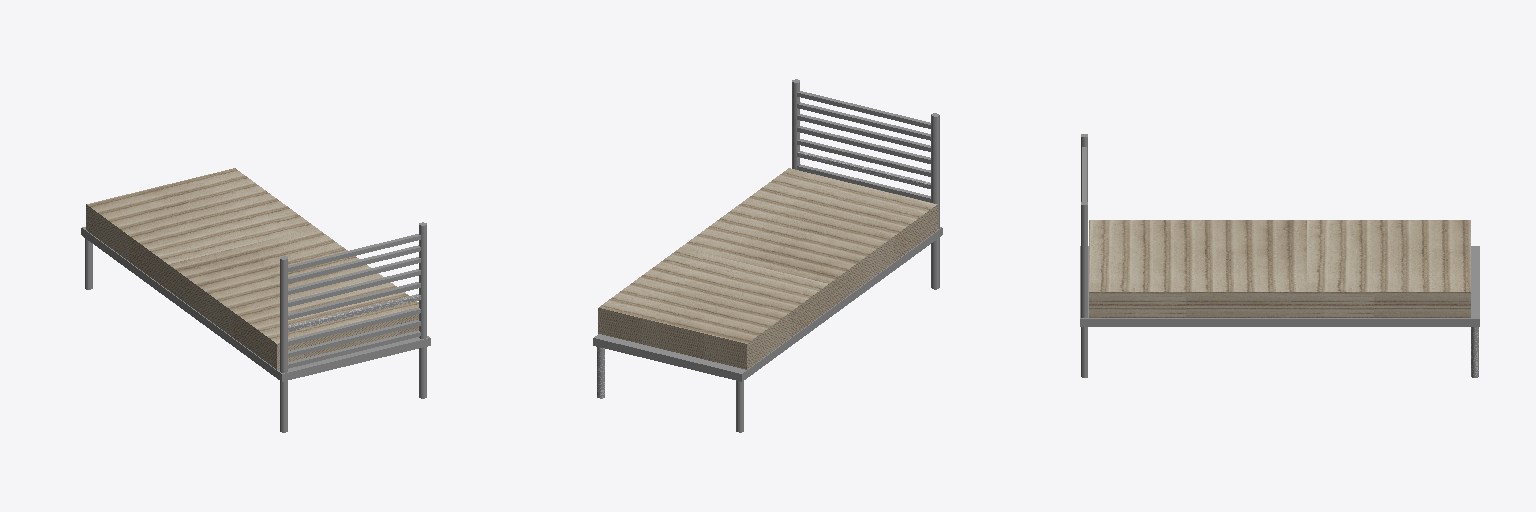
3 views of the same model, side by side, from view 1: azimuth 30°, elevation 25°; view 2: azimuth 150°, elevation 25°; view 3: azimuth 270°, elevation 25° (orthographic).
Visible parts, largest first — view 1: Cube, Cube.001, Cylinder.004_Cylinder.005, Cylinder.003_Cylinder.004, Cube.010_Cube.012, Cube.005_Cube.007, Cube.006_Cube.008, Cube.004_Cube.006, Cube.002_Cube.004, Cube.011_Cube.013, Cube.009_Cube.011, Cube.003_Cube.005 (+1 smaller); view 2: Cube, Cube.001, Cylinder.004_Cylinder.005, Cube.006_Cube.008, Cube.005_Cube.007, Cube.004_Cube.006, Cube.003_Cube.005, Cube.002_Cube.004, Cube.009_Cube.011, Cube.008_Cube.010, Cylinder.003_Cylinder.004; view 3: Cube, Cube.001, Cylinder.003_Cylinder.004.
Part boxes in pixels (left/top/right/bottom): Cube: left=86, top=168, right=418, bottom=369; Cube.001: left=81, top=227, right=430, bottom=381; Cylinder.004_Cylinder.005: left=280, top=256, right=287, bottom=432; Cylinder.003_Cylinder.004: left=419, top=222, right=426, bottom=398; Cube.010_Cube.012: left=288, top=319, right=420, bottom=357; Cube.005_Cube.007: left=288, top=269, right=420, bottom=306; Cube.006_Cube.008: left=288, top=282, right=420, bottom=319; Cube.004_Cube.006: left=288, top=257, right=420, bottom=294; Cube.002_Cube.004: left=288, top=234, right=420, bottom=271; Cube.011_Cube.013: left=288, top=330, right=420, bottom=368; Cube.009_Cube.011: left=288, top=307, right=420, bottom=345; Cube.003_Cube.005: left=288, top=245, right=420, bottom=283; Cube: left=598, top=168, right=937, bottom=369; Cube.001: left=593, top=227, right=942, bottom=381; Cylinder.004_Cylinder.005: left=931, top=113, right=939, bottom=289; Cube.006_Cube.008: left=797, top=139, right=930, bottom=176; Cube.005_Cube.007: left=797, top=126, right=930, bottom=163; Cube.004_Cube.006: left=797, top=114, right=930, bottom=151; Cube.003_Cube.005: left=797, top=102, right=930, bottom=140; Cube.002_Cube.004: left=797, top=91, right=930, bottom=128; Cube.009_Cube.011: left=797, top=164, right=930, bottom=202; Cube.008_Cube.010: left=797, top=151, right=930, bottom=188; Cylinder.003_Cylinder.004: left=792, top=79, right=799, bottom=169; Cube: left=1089, top=220, right=1470, bottom=317; Cube.001: left=1080, top=246, right=1479, bottom=326; Cylinder.003_Cylinder.004: left=1081, top=202, right=1087, bottom=377.
Size of the model in its own units: 0.9 by 1 by 2.1.
3 materials, 1 textured.